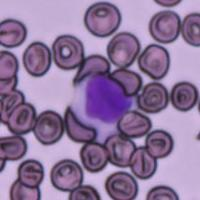M: (68, 73, 136, 126)
